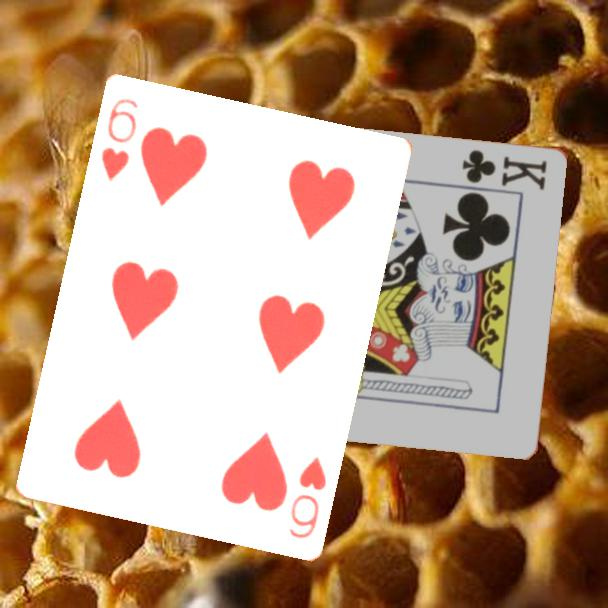c13: (459, 145, 551, 193)
h06: (97, 94, 141, 184), (285, 453, 329, 541)
